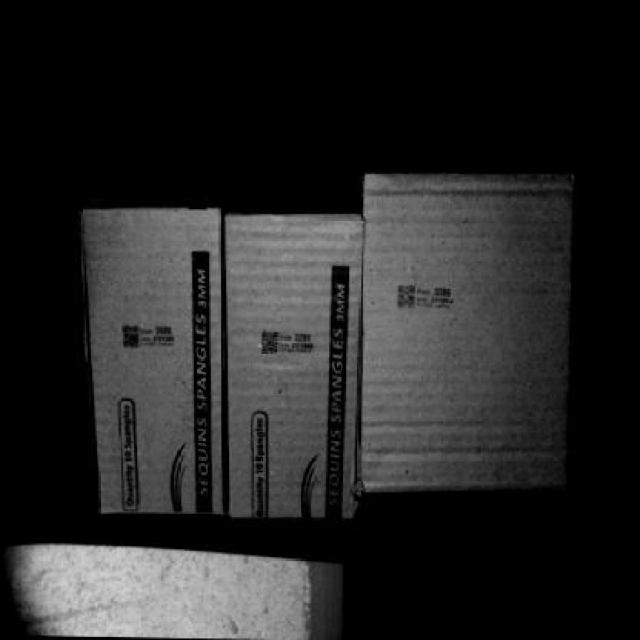cardboxes: (359, 172, 576, 488), (76, 204, 232, 522), (223, 214, 362, 521)
